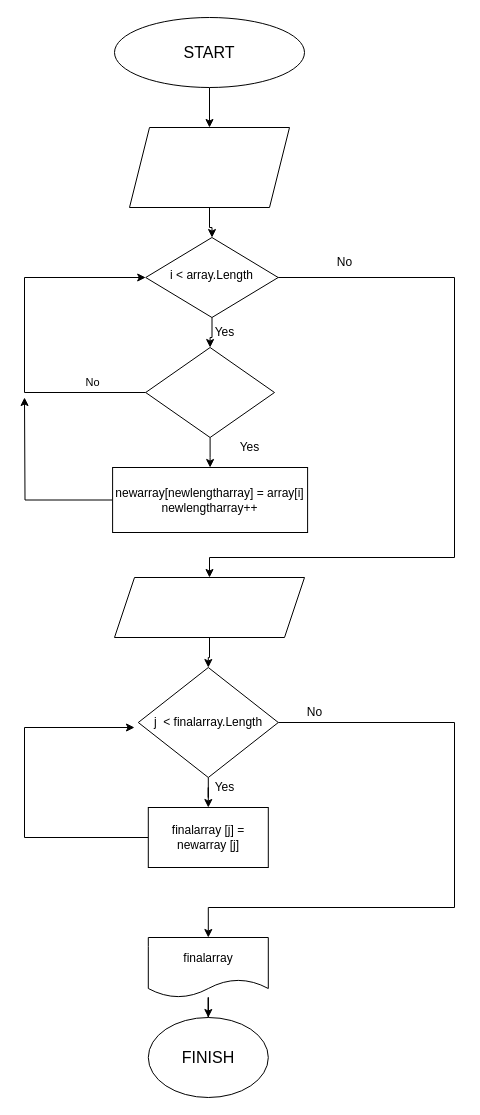
This 480x1115 diagram has some shape labels left out. Here are the shapes that lost their labels. From the top down, the centre of each, then its label:
At point (209, 167): "array newarray length newlengtharray".
At point (209, 392): "array[i] <= length".
At point (209, 607): "string[] finalarray = new string[newlengtharray".
